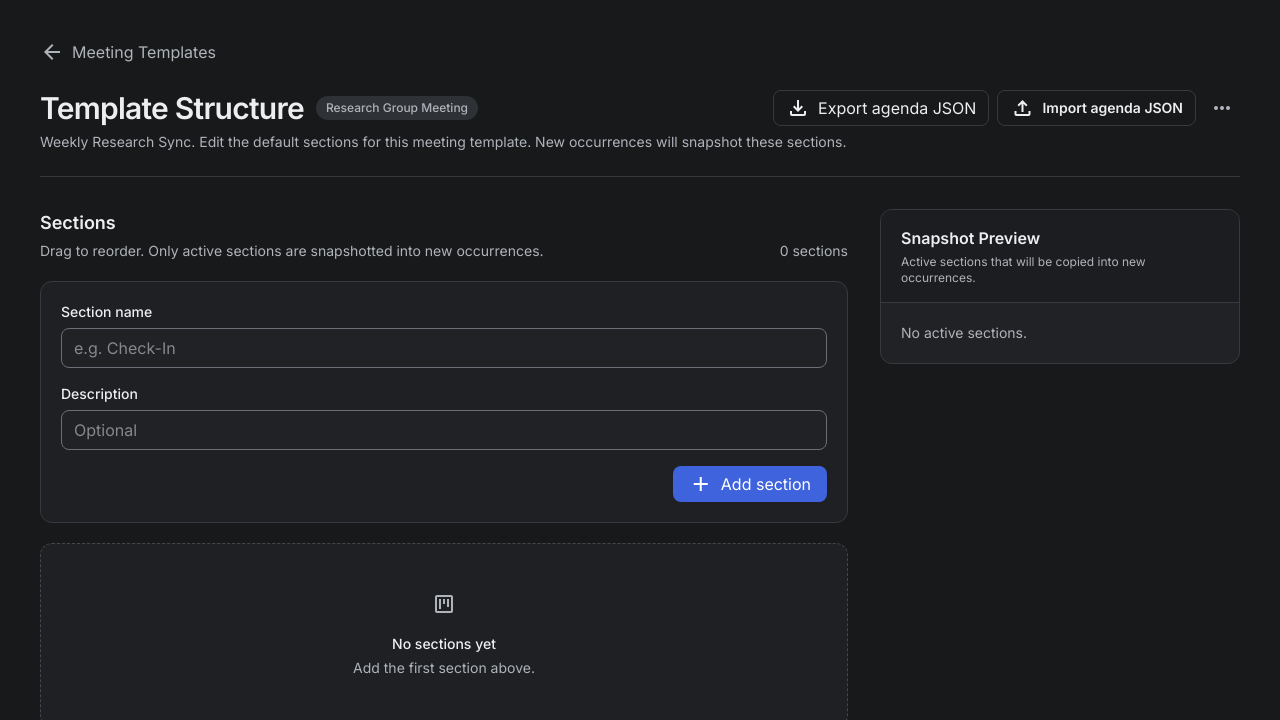
Test: MeetingSeriesDetailPage template deletion › cancelling leaves the template unchanged
The image size is (1280, 720).
Expected: the heading "Template Structure" is shown, [40,90,304,126]
Click the button named "Template actions" at (1222, 108), box [1204,90,1240,126]
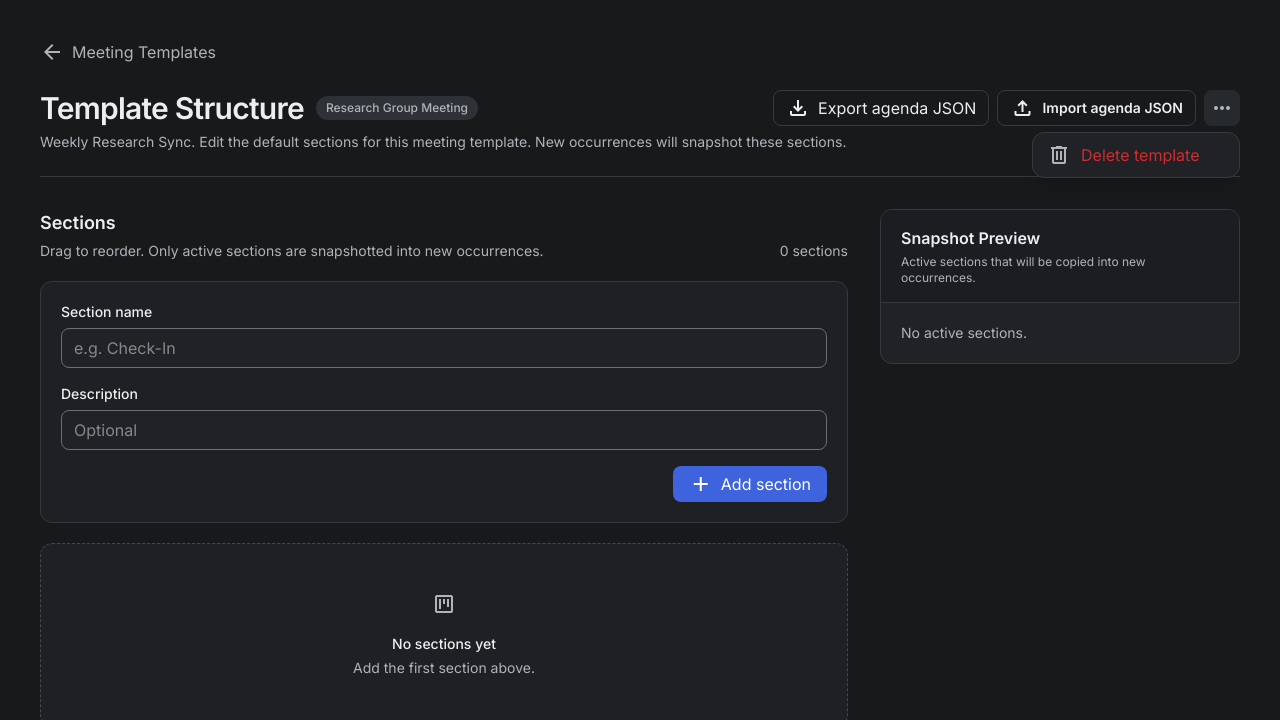
Click the menu item "Delete template" at (1136, 155), box [1037,137,1235,173]
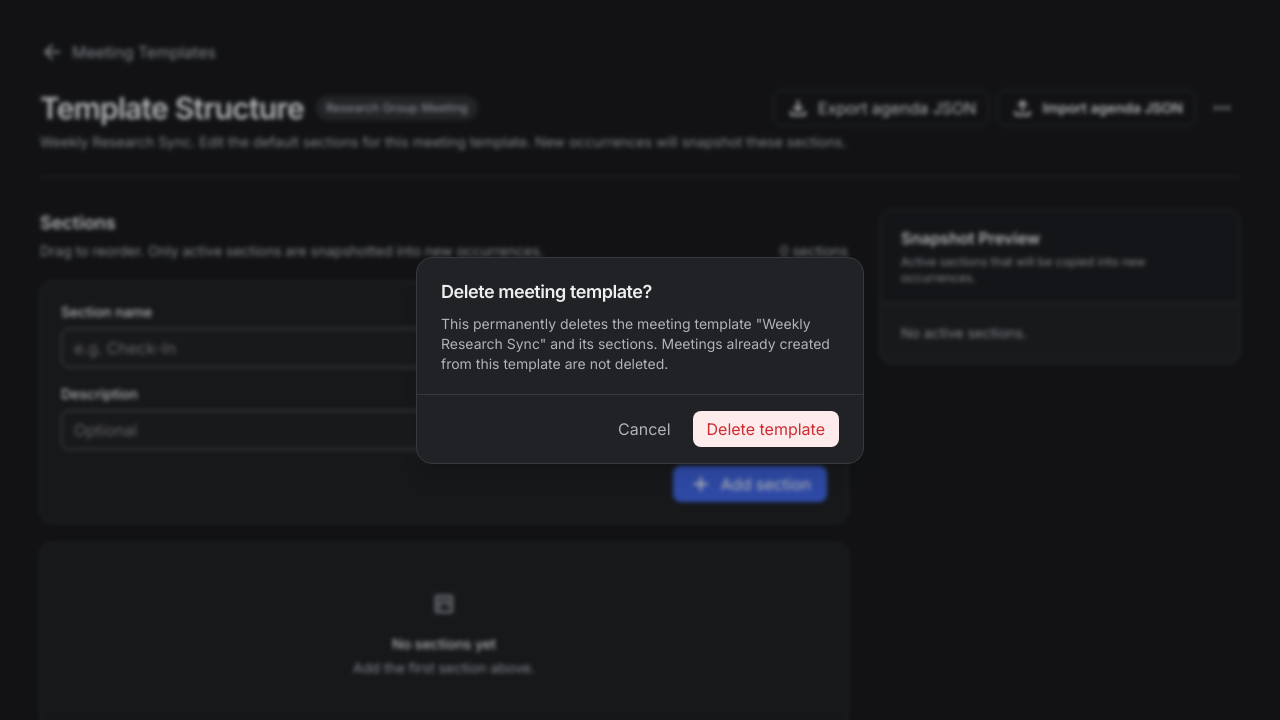
Click the button "Cancel" at (644, 428), box [604,410,685,446]
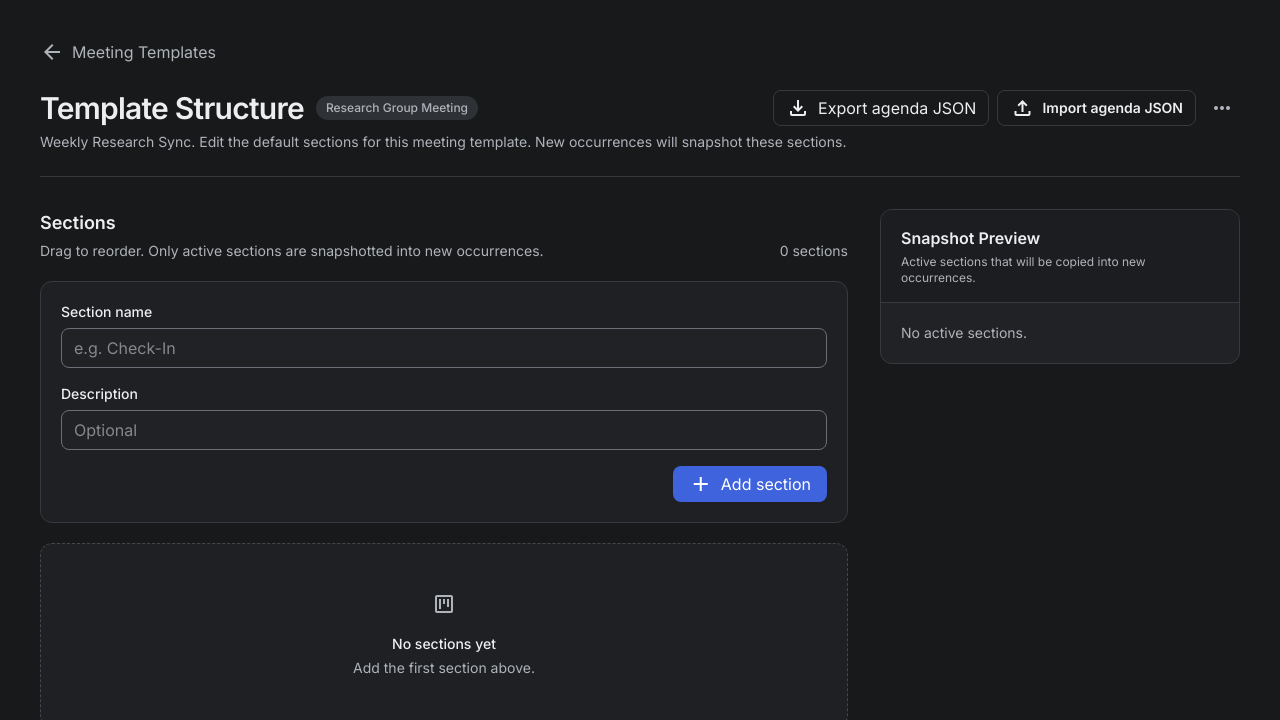
Expected: the heading "Template Structure" is shown, [40,90,304,126]
Expected: the heading "Delete meeting template?" is gone
